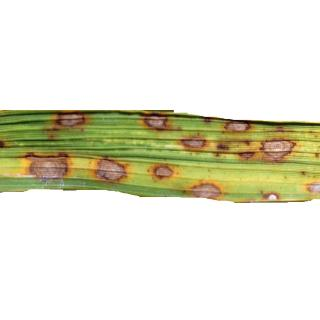bercak-Cokelat: (18, 148, 76, 194), (89, 151, 134, 193), (255, 133, 301, 165), (134, 108, 178, 138), (50, 109, 90, 137), (184, 176, 221, 206), (147, 158, 180, 187), (178, 127, 215, 151), (219, 114, 248, 137), (263, 189, 289, 213), (237, 146, 262, 168), (297, 177, 320, 199), (217, 141, 233, 157)
